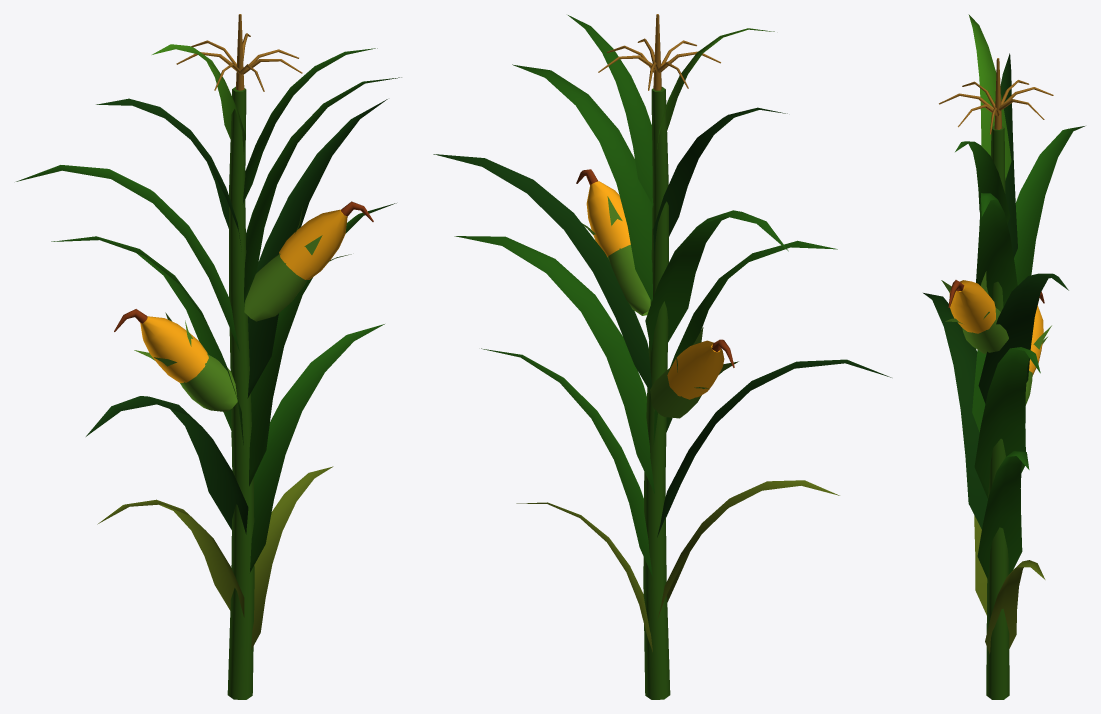
Rendered from Corn_4.obj.
The picture shows the model from 3 angles, left to right: view 1: azimuth 30°, elevation 25°; view 2: azimuth 150°, elevation 25°; view 3: azimuth 270°, elevation 25°; orthographic projection. The views are drawn at different scales.
Visible parts, largest first — view 1: Corn_4; view 2: Corn_4; view 3: Corn_4.
Boxes of the visible parts, left/top/right/bottom form: Corn_4: left=16, top=14, right=401, bottom=699; Corn_4: left=433, top=14, right=891, bottom=699; Corn_4: left=923, top=14, right=1084, bottom=699.
Size of the model in its own units: 1.18 by 2.01 by 0.4698.
